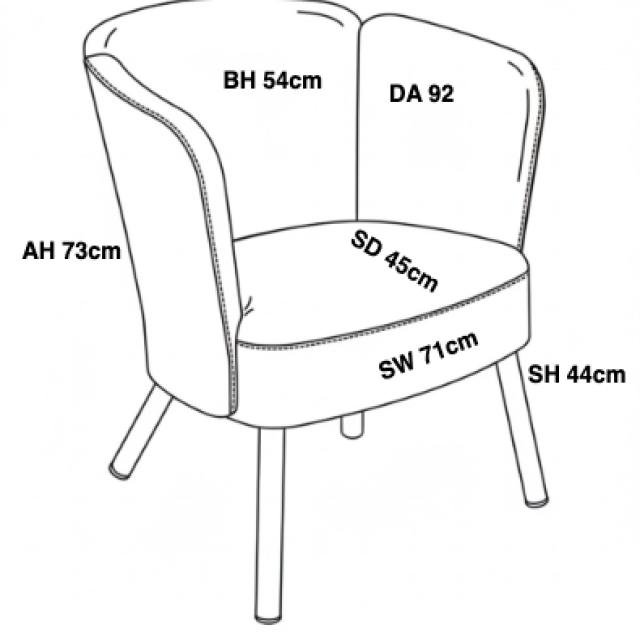AH_Label: (21, 237, 122, 262)
Armrest: (86, 54, 248, 417), (357, 12, 546, 250)
BH_Label: (219, 68, 324, 90)
Backrest: (84, 0, 364, 238)
DA_Label: (386, 83, 460, 103)
Leg_Structure: (255, 406, 375, 624), (109, 382, 253, 480), (478, 351, 550, 509)
SD_Label: (347, 227, 446, 298)
SH_Label: (528, 363, 625, 385)
SW_Label: (371, 329, 484, 384)
Seat: (234, 221, 532, 431)
